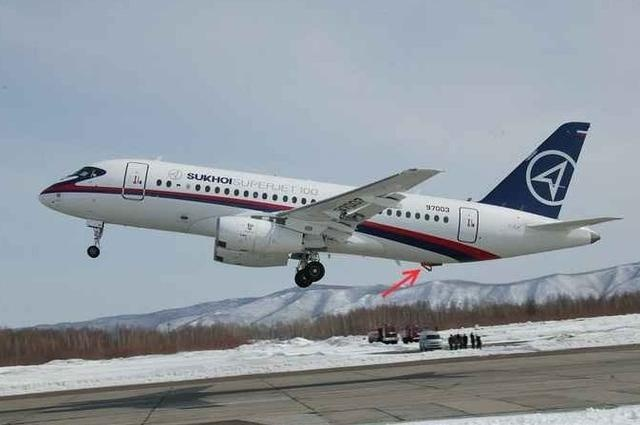airplane: (33, 118, 624, 289)
